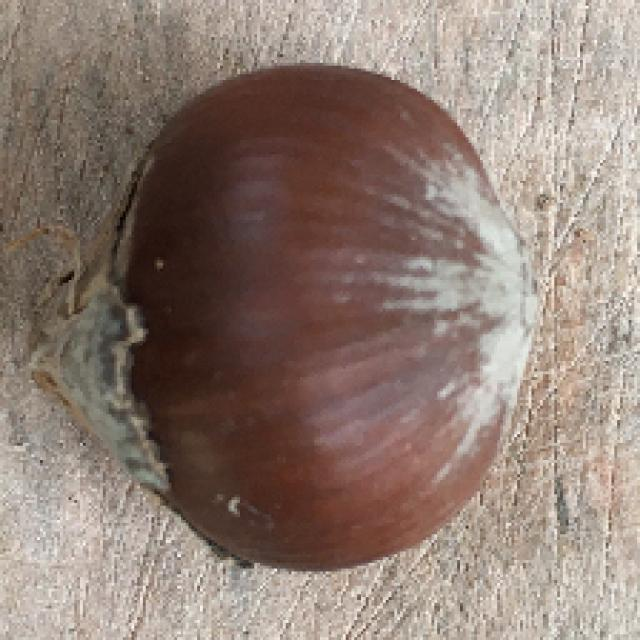damagedHazelnut: (57, 60, 542, 575)
